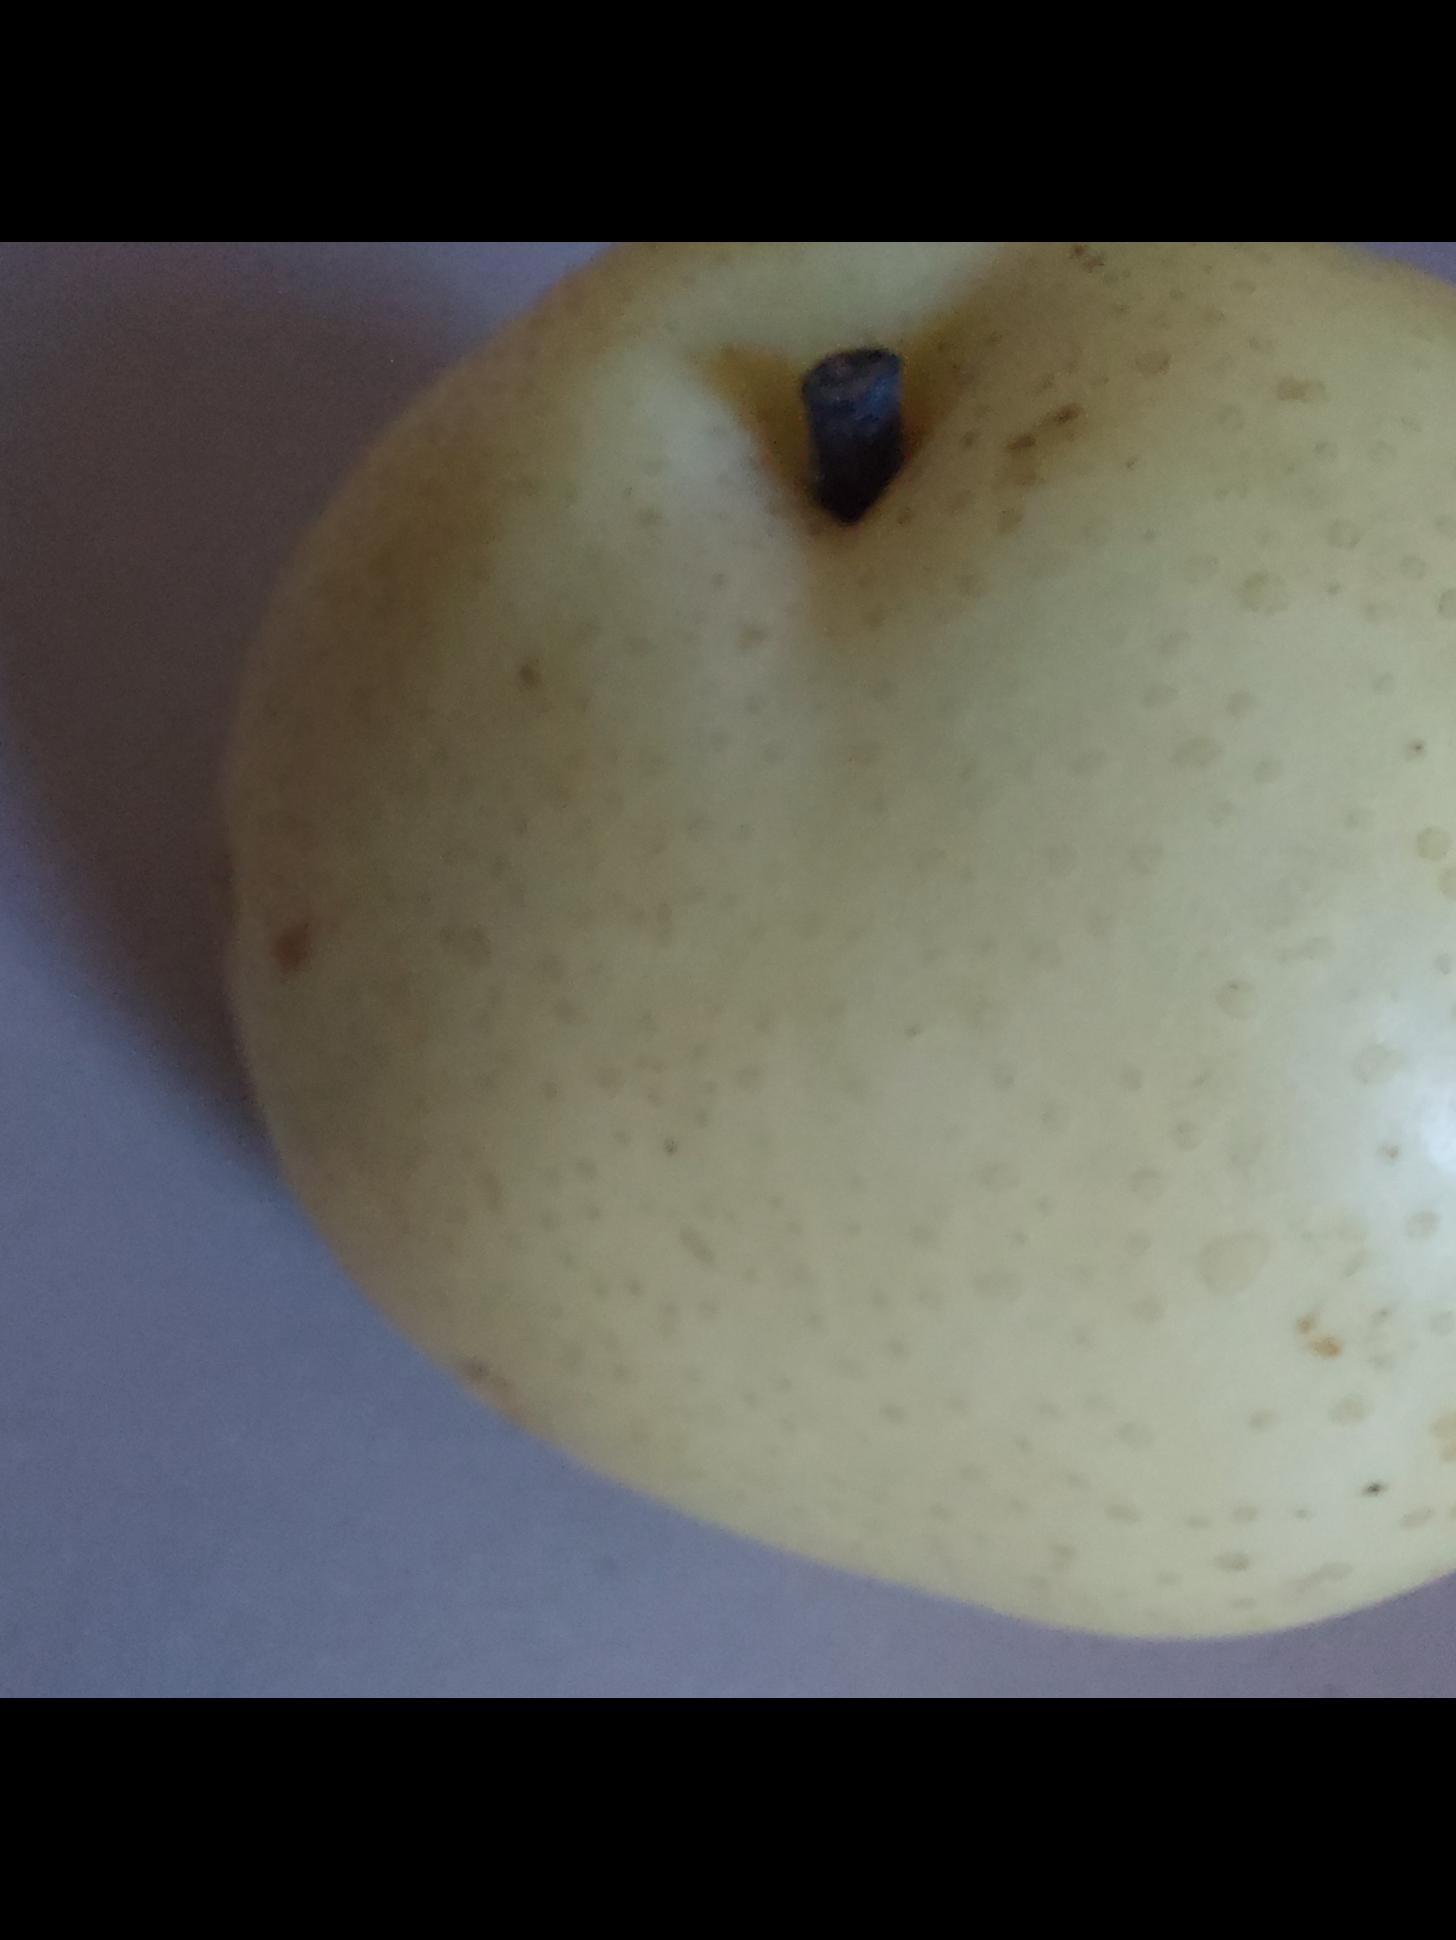Good Pear: (135, 242, 1456, 1698)
